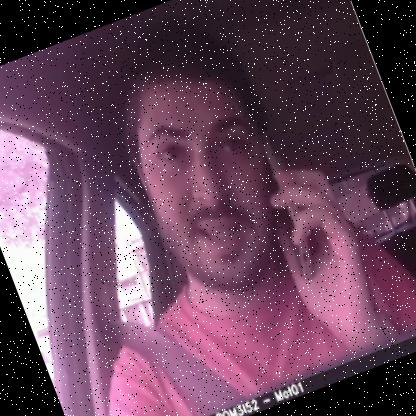phone: (240, 119, 349, 295)
